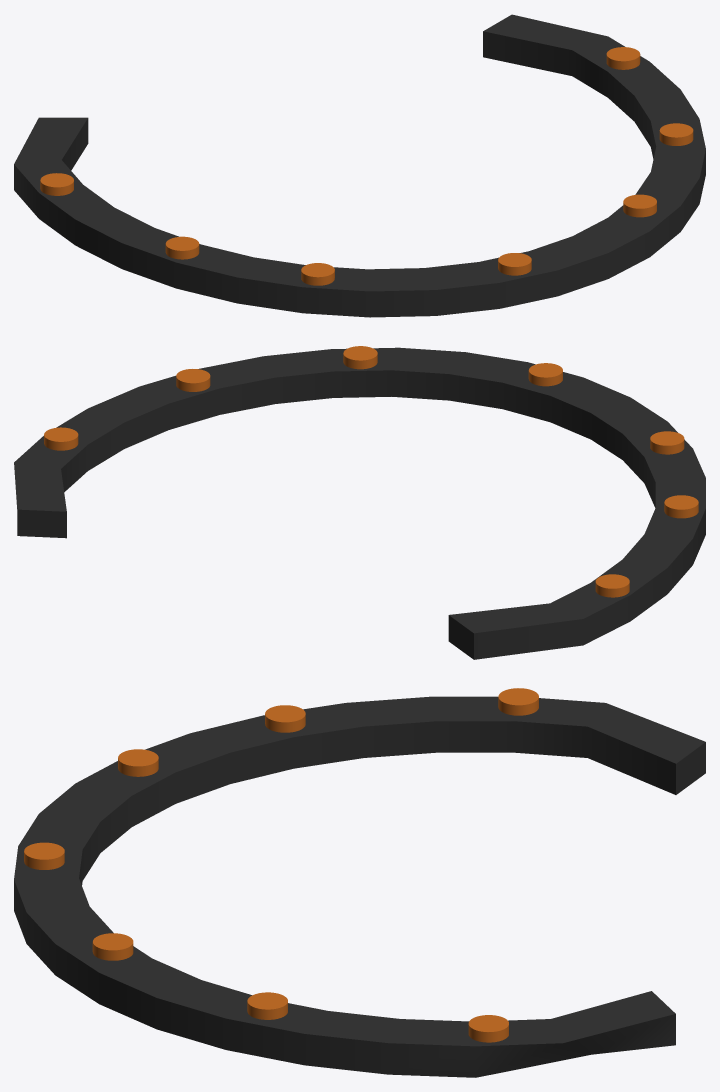
File: b42e4970-a092-4aba-b1cf-c23767a42022.glb
The picture shows the model from 3 angles, top to bottom: view 1: azimuth 30°, elevation 25°; view 2: azimuth 150°, elevation 25°; view 3: azimuth 270°, elevation 25°; orthographic projection. The views are drawn at different scales.
Visible parts, largest first — view 1: Cylinder007, Cylinder008; view 2: Cylinder007, Cylinder008; view 3: Cylinder007, Cylinder008.
Part boxes in pixels (x1,y1,x2,y2): Cylinder007: [14, 14, 705, 317]; Cylinder008: [40, 47, 693, 285]; Cylinder007: [14, 347, 705, 659]; Cylinder008: [44, 346, 698, 597]; Cylinder007: [14, 696, 705, 1077]; Cylinder008: [24, 688, 538, 1042].
Size of the model in its own units: 2319202 by 129487 by 1939219.
